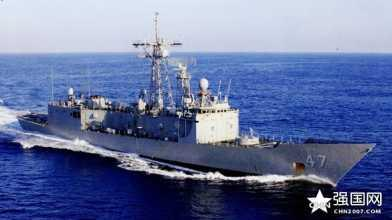warship: (16, 15, 383, 184)
